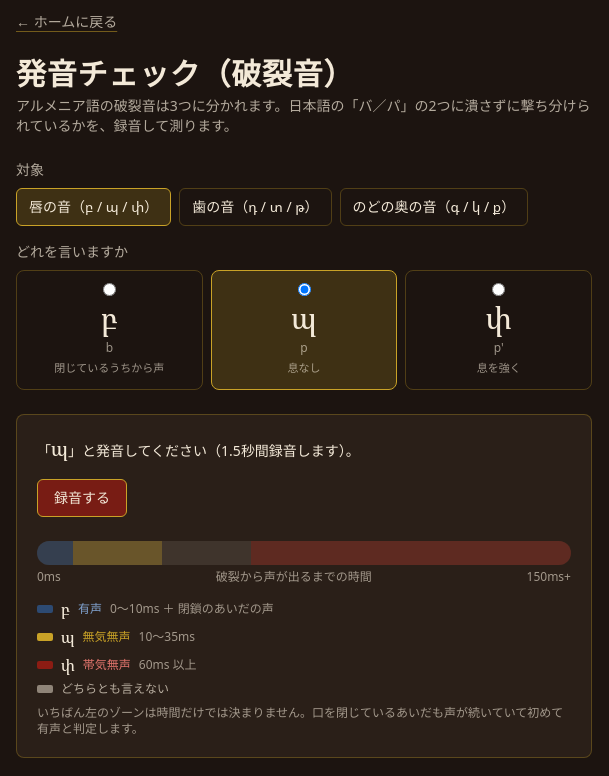
Test: VotPractice › 前有声化のある録音を有声（բ）のつもりで録ると、狙い通りと返す
The image size is (609, 776).
Click the radio button labelled "բ b 閉じているうちから声".
click(109, 290)  # box [103, 283, 116, 296]
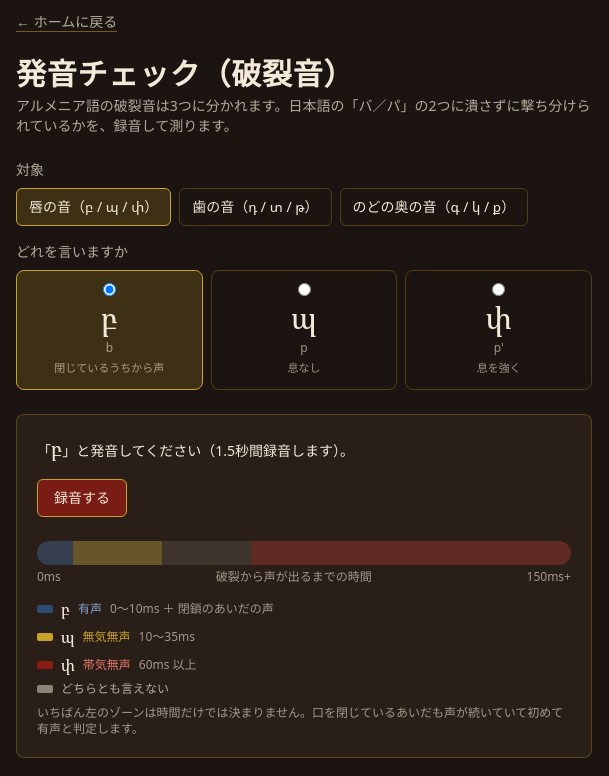
Click the button "録音する".
click(82, 498)  # box [37, 478, 127, 516]
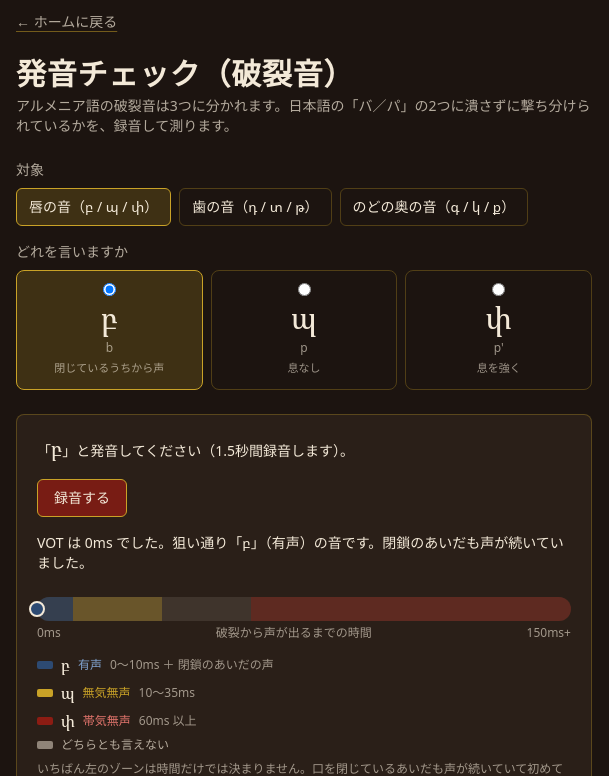
Check: the text "VOT は 0ms でした。狙い通り「բ」（有声）の音です。閉鎖のあいだも声が続いていました。" is shown, box [37, 532, 571, 572]
